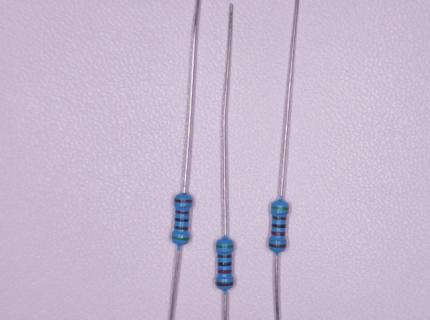Black band: (174, 218, 189, 222), (272, 224, 286, 228), (218, 262, 231, 266)
Brown band: (268, 243, 287, 248), (216, 281, 234, 286), (174, 199, 192, 203), (174, 225, 188, 230), (217, 254, 233, 258), (272, 216, 286, 220)
Green band: (171, 235, 190, 241), (216, 245, 234, 249), (271, 206, 289, 210)
Red band: (175, 210, 190, 215), (271, 231, 286, 236), (218, 270, 232, 274)
